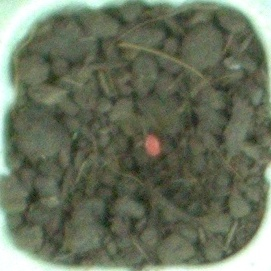pepper seed: (59, 54, 224, 211)
